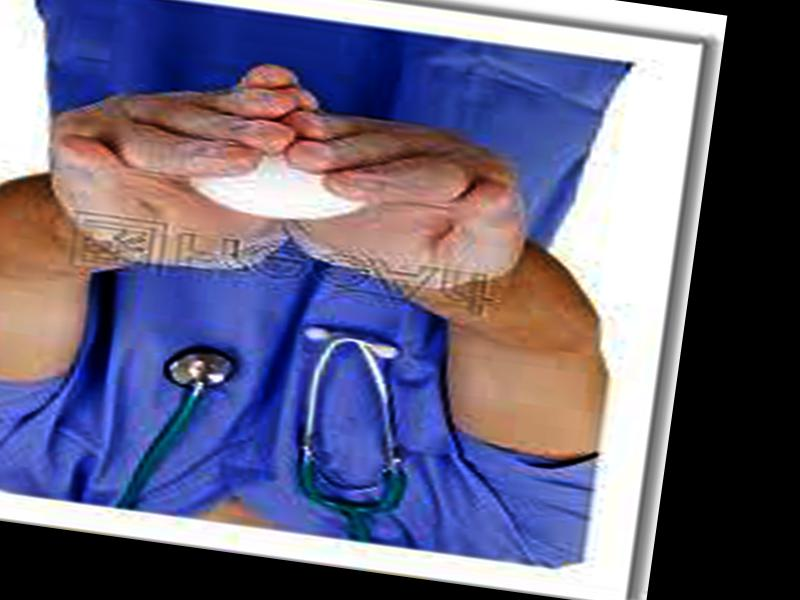Eggs: (191, 139, 372, 230)
